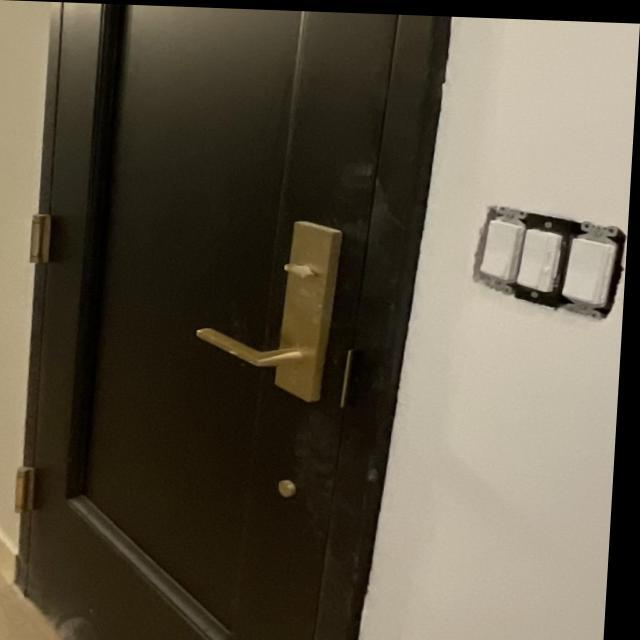door_handle: (181, 311, 328, 384)
